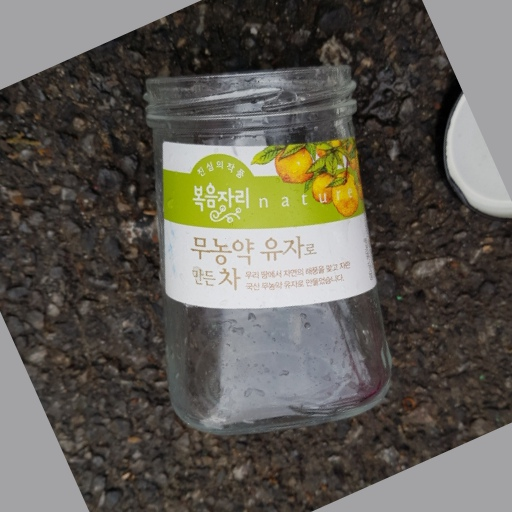Glass_5: (138, 59, 391, 430)
